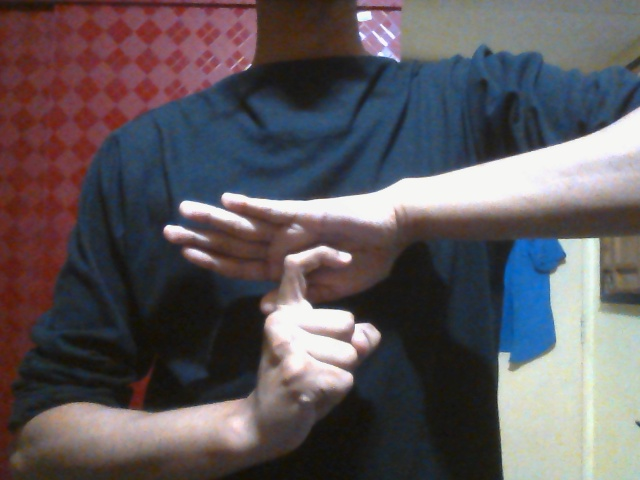R: (159, 185, 422, 448)
